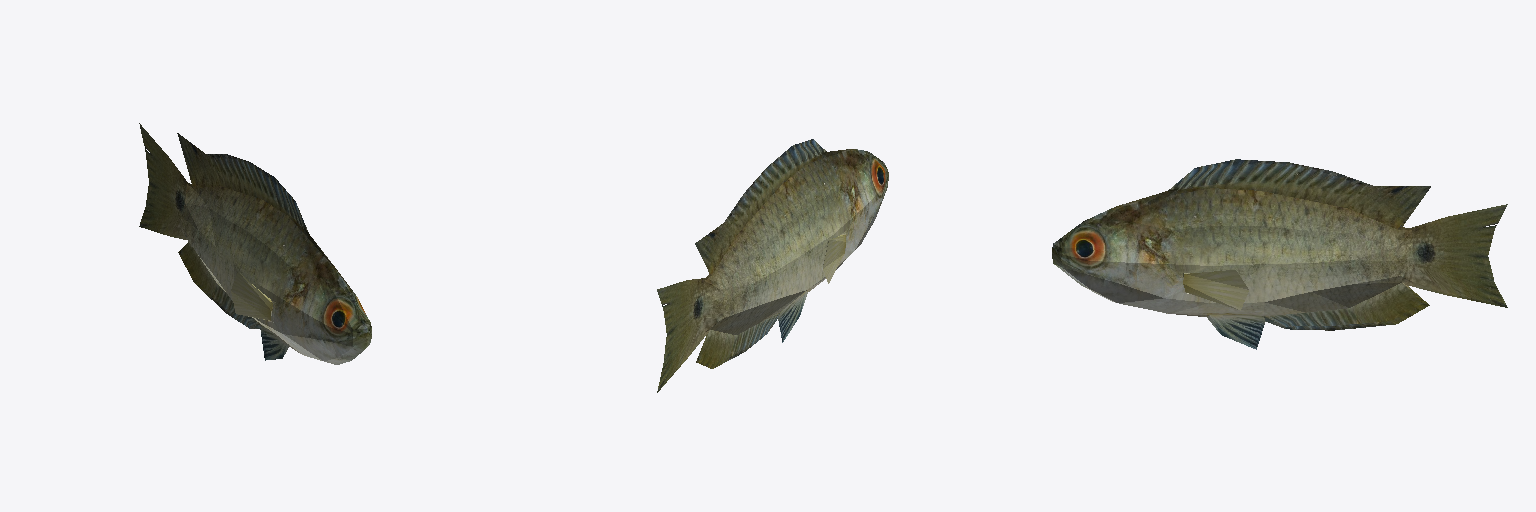
3 views of the same model, side by side, from view 1: azimuth 30°, elevation 25°; view 2: azimuth 150°, elevation 25°; view 3: azimuth 270°, elevation 25° (orthographic).
Parts seen in each view (by area): view 1: FISH_Plane; view 2: FISH_Plane; view 3: FISH_Plane.
Boxes of the visible parts, x1=… form: FISH_Plane: x1=139, y1=123, x2=371, y2=364; FISH_Plane: x1=657, y1=139, x2=888, y2=392; FISH_Plane: x1=1052, y1=159, x2=1507, y2=349.
Size of the model in its own units: 0.3288 by 0.7418 by 1.61.
Materials: 1 (1 with a texture image).